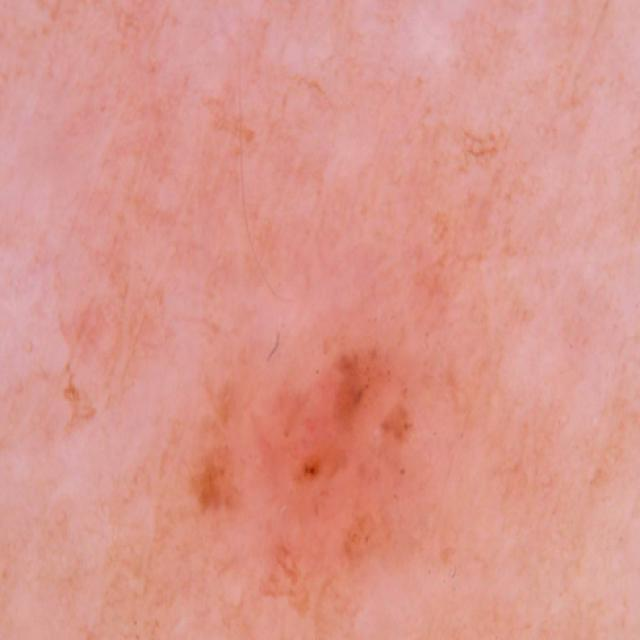Carcinoma: (133, 277, 528, 604)
